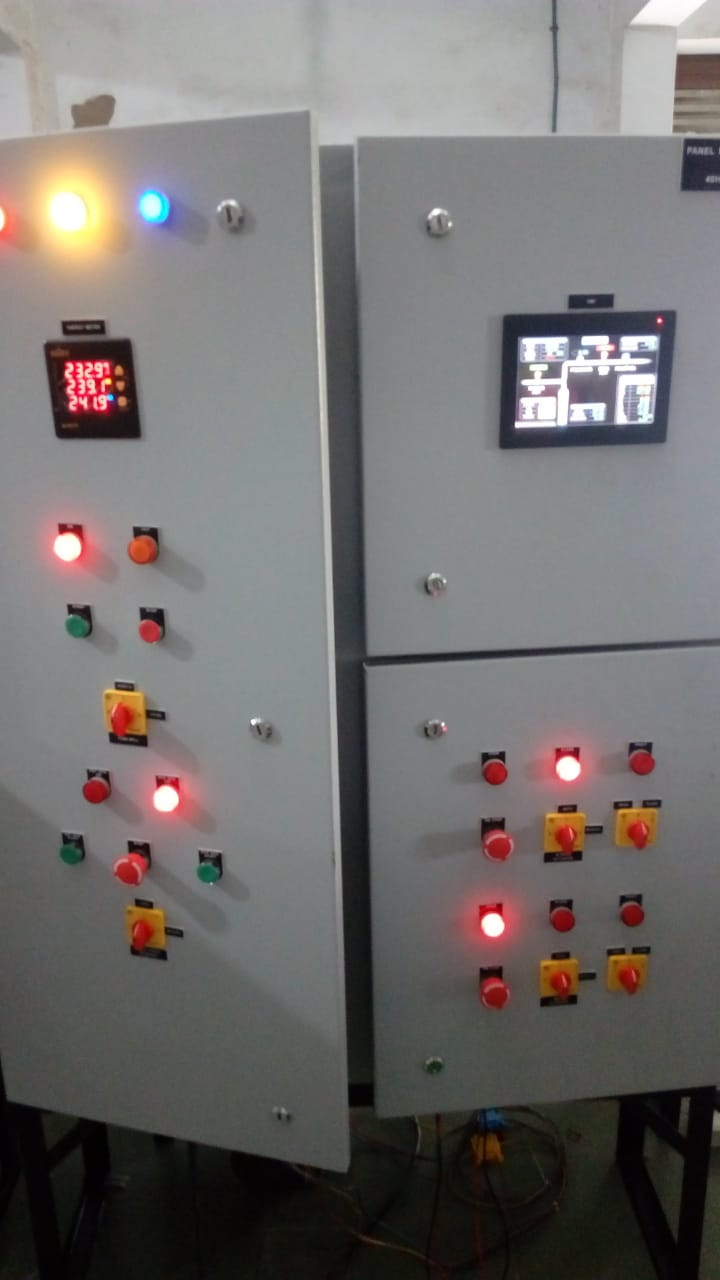Blue_Led_On: (128, 170, 186, 243)
Green_Led_Off: (181, 845, 254, 903), (45, 596, 111, 657), (43, 824, 104, 881)
Orange_Led_Off: (117, 513, 188, 584)
Red_Led_Off: (614, 724, 674, 788), (604, 881, 661, 941), (71, 764, 128, 820), (128, 598, 178, 660), (535, 889, 590, 943), (471, 745, 521, 795)
Red_Led_On: (458, 892, 527, 957), (143, 764, 206, 831), (35, 513, 100, 577), (545, 738, 592, 795)
Yellow_Led_On: (35, 177, 108, 253)
